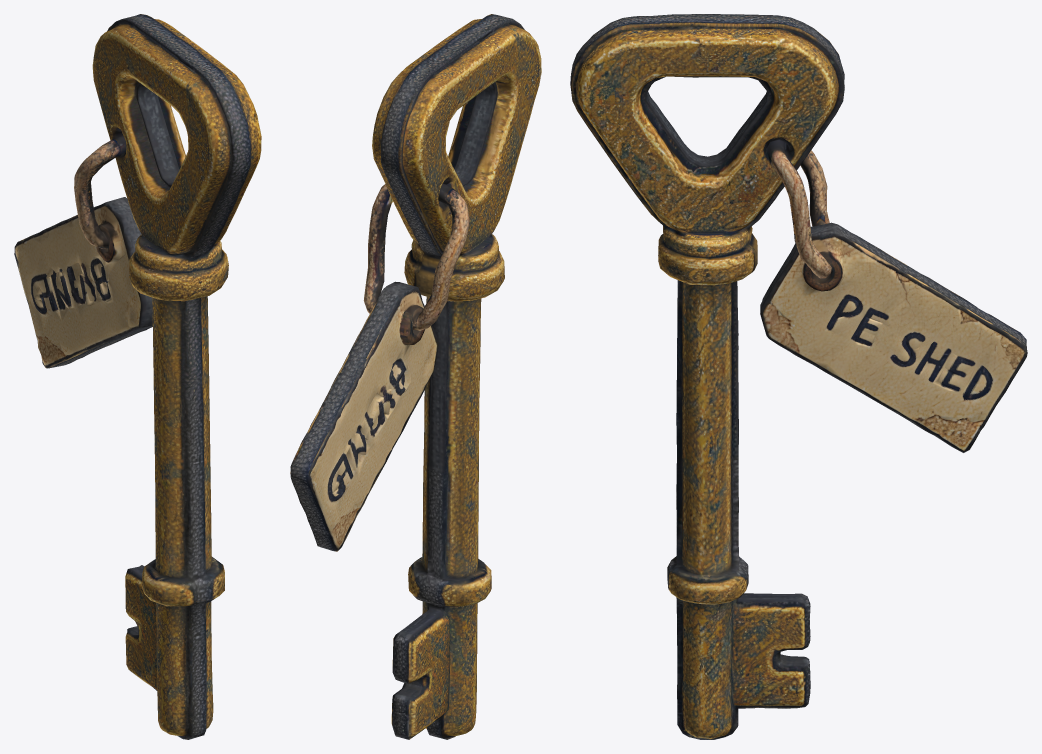
The model's file is KeyPEShed.fbx.
3 renders of one model, left to right at view 1: azimuth 30°, elevation 25°; view 2: azimuth 150°, elevation 25°; view 3: azimuth 270°, elevation 25°, orthographic. The views are drawn at different scales.
Parts seen in each view (by area): view 1: tripo_node_ae571d61-4a65-4933-91f0-c0b0b86232bf; view 2: tripo_node_ae571d61-4a65-4933-91f0-c0b0b86232bf; view 3: tripo_node_ae571d61-4a65-4933-91f0-c0b0b86232bf.
Boxes of the visible parts, <box> form: tripo_node_ae571d61-4a65-4933-91f0-c0b0b86232bf: <box>14,14,261,739</box>; tripo_node_ae571d61-4a65-4933-91f0-c0b0b86232bf: <box>290,14,541,739</box>; tripo_node_ae571d61-4a65-4933-91f0-c0b0b86232bf: <box>570,14,1027,739</box>.
Size of the model in its own units: 14.97 by 100 by 58.05.
Materials: 1 (1 with a texture image).
